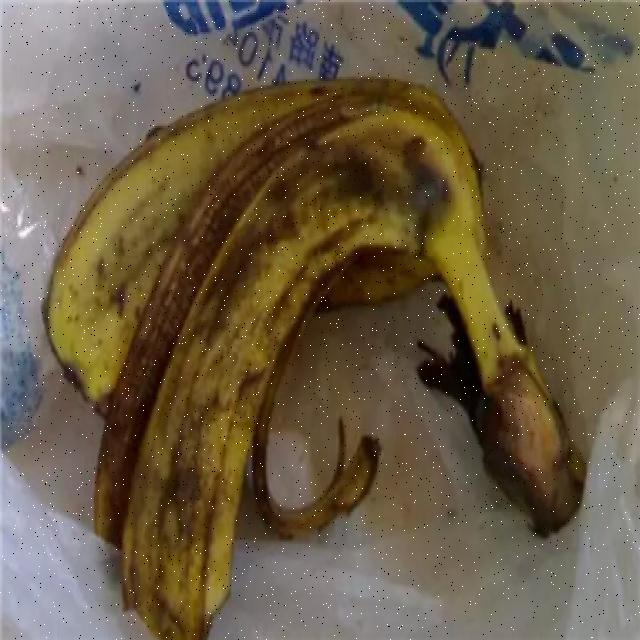banana-peel: (41, 74, 586, 636)
